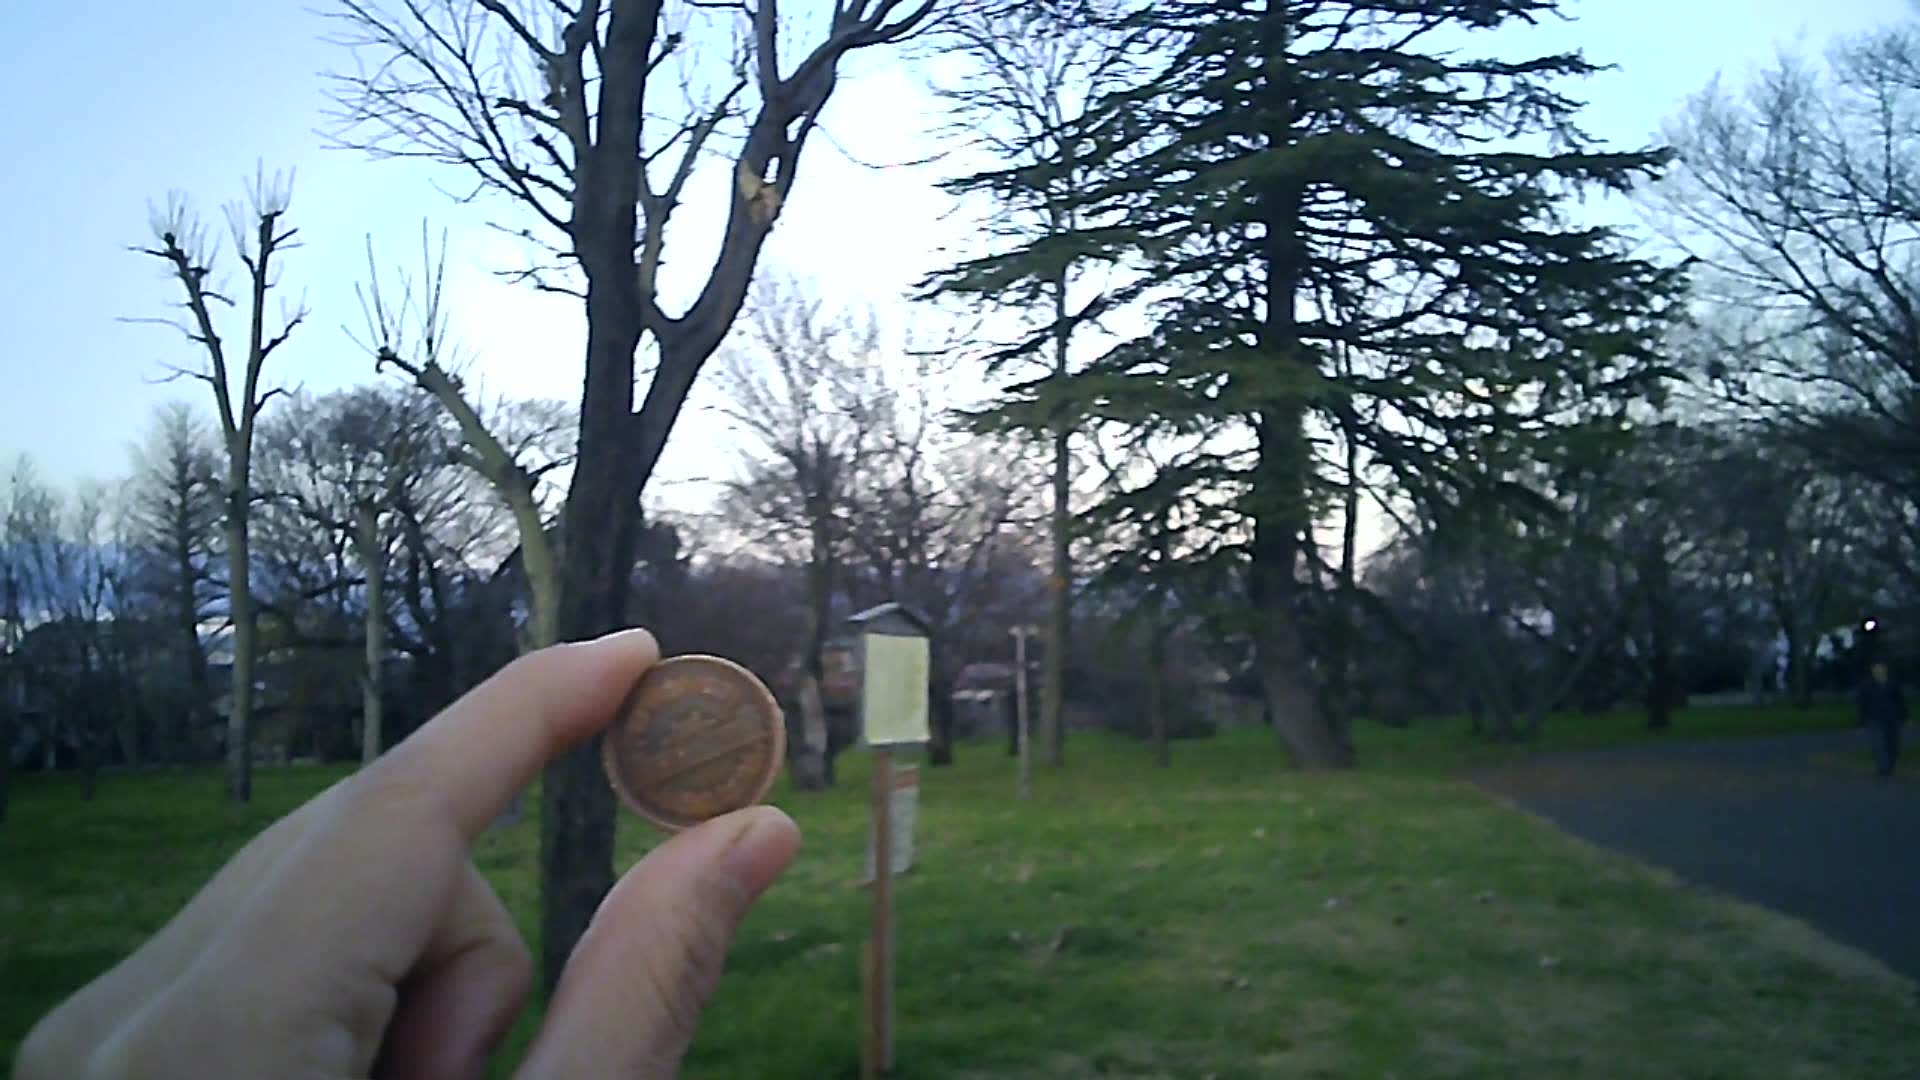10 Yen: (604, 651, 785, 833)
